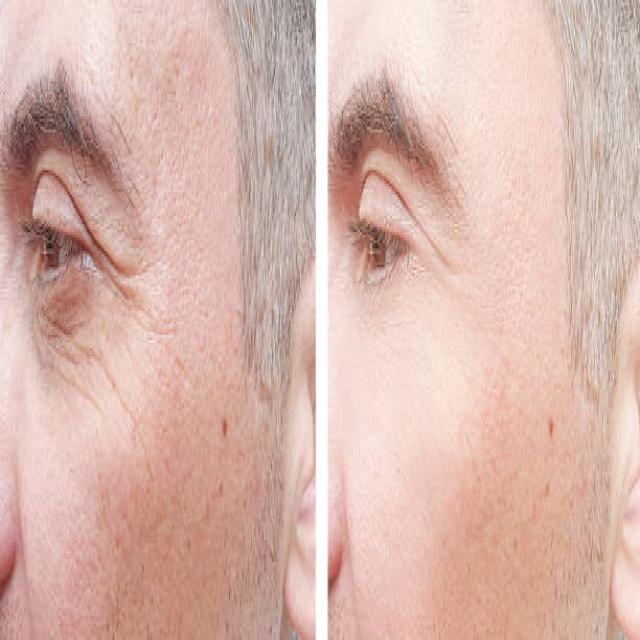Dry-Skin: (78, 286, 238, 606)
